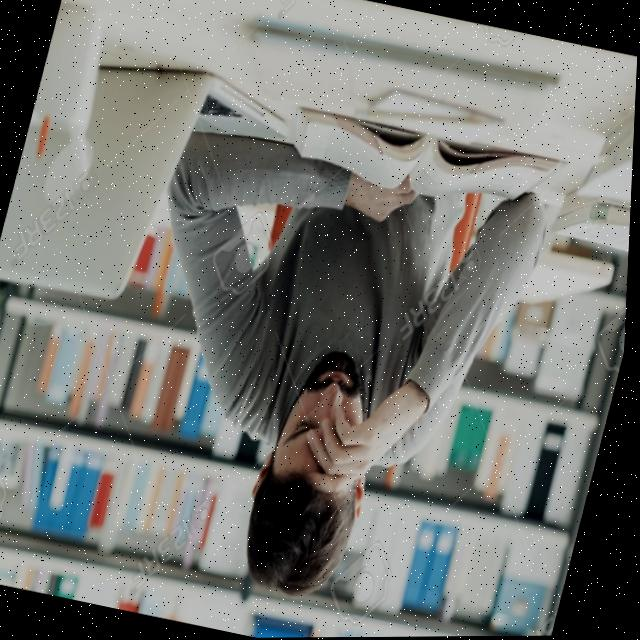studying-person: (163, 85, 572, 637)
